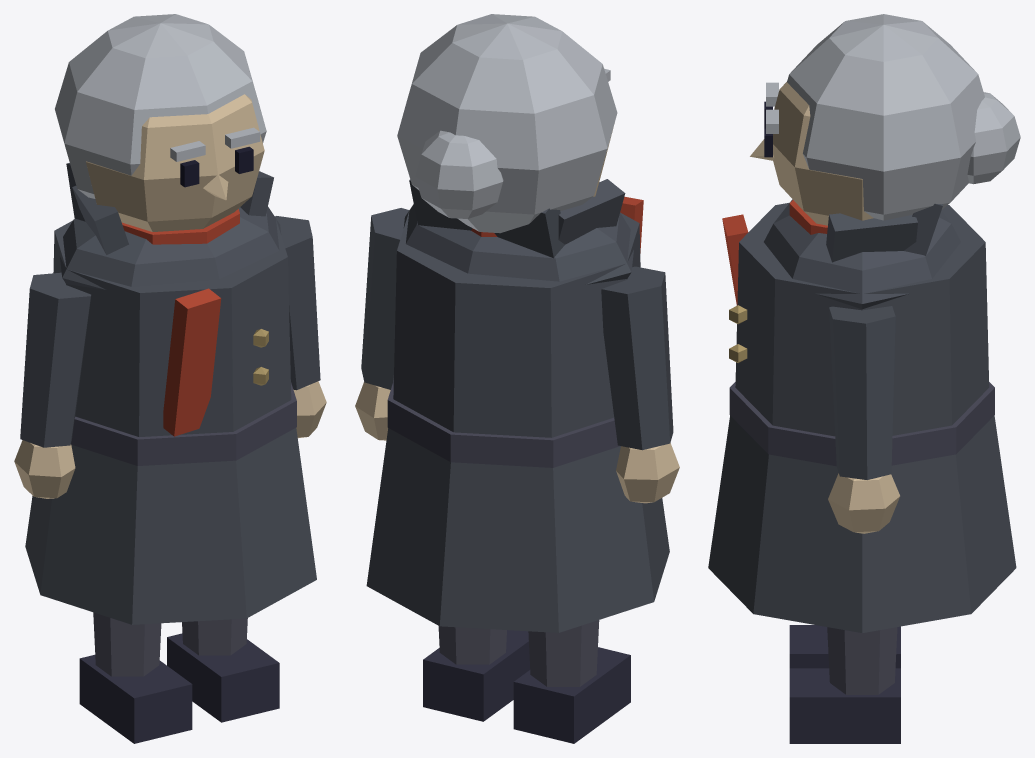
File: mara.glb
3 views of the same model, side by side, from view 1: azimuth 30°, elevation 25°; view 2: azimuth 150°, elevation 25°; view 3: azimuth 270°, elevation 25° (orthographic). The views are drawn at different scales.
Visible parts, largest first — view 1: Torso, Head, ArmR, LegR, LegL, ArmL; view 2: Torso, Head, ArmR, LegR, LegL, ArmL; view 3: Torso, Head, ArmL, LegL, LegR.
Part boxes in pixels (x1=…): Torso: x1=25, y1=163, x2=316, y2=624; Head: x1=55, y1=14, x2=266, y2=231; ArmR: x1=14, y1=272, x2=91, y2=498; LegR: x1=79, y1=612, x2=192, y2=743; LegL: x1=167, y1=618, x2=279, y2=722; ArmL: x1=275, y1=216, x2=326, y2=438; Torso: x1=366, y1=179, x2=669, y2=632; Head: x1=397, y1=14, x2=617, y2=233; ArmR: x1=601, y1=266, x2=679, y2=503; LegR: x1=513, y1=620, x2=630, y2=743; LegL: x1=423, y1=626, x2=530, y2=721; ArmL: x1=355, y1=208, x2=409, y2=440; Torso: x1=708, y1=199, x2=1016, y2=633; Head: x1=750, y1=14, x2=1020, y2=225; ArmL: x1=828, y1=306, x2=899, y2=533; LegL: x1=789, y1=627, x2=900, y2=743; LegR: x1=789, y1=625, x2=900, y2=668.
Size of the model in its own units: 0.8202 by 1.76 by 0.73.
